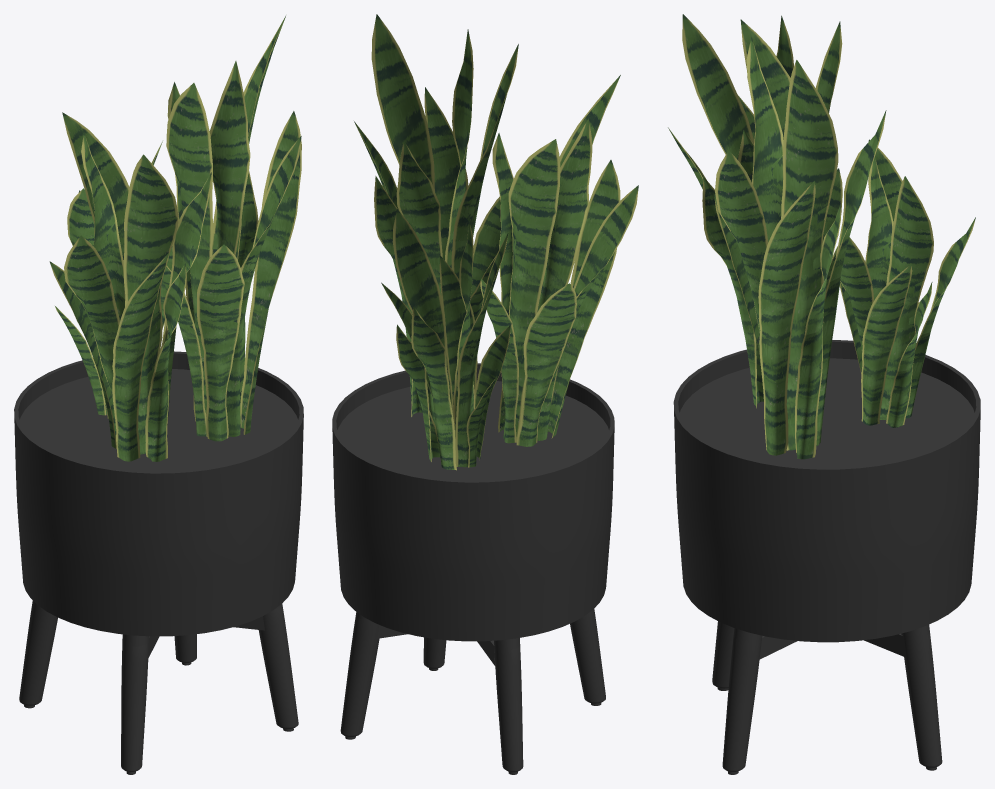
File: SM_MERGED_snakePlant.FBX
3 views of the same model, side by side, from view 1: azimuth 30°, elevation 25°; view 2: azimuth 150°, elevation 25°; view 3: azimuth 270°, elevation 25° (orthographic). The views are drawn at different scales.
Parts seen in each view (by area): view 1: SM_MERGED_snakePlant; view 2: SM_MERGED_snakePlant; view 3: SM_MERGED_snakePlant.
Boxes of the visible parts, left/top/right/bottom form: SM_MERGED_snakePlant: left=14, top=16, right=303, bottom=774; SM_MERGED_snakePlant: left=332, top=14, right=638, bottom=774; SM_MERGED_snakePlant: left=668, top=14, right=980, bottom=774.
Size of what is drawn, in the model's own units: 32.51 by 32.51 by 83.24.
